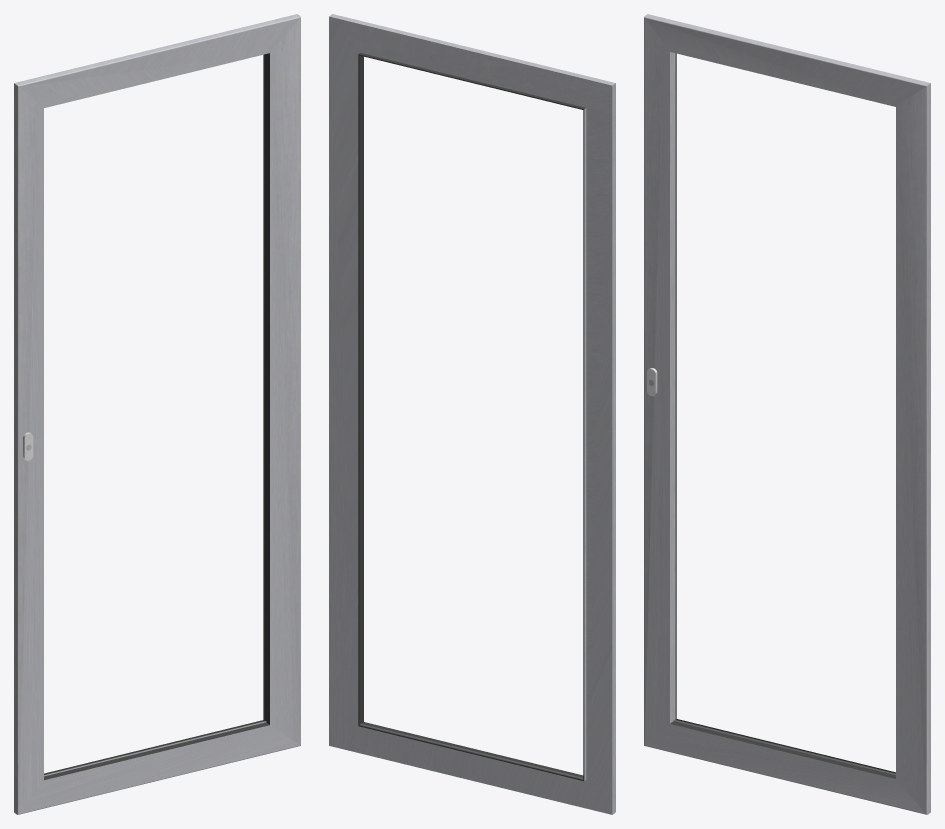
File: SM_Window_Left.dae
3 views of the same model, side by side, from view 1: azimuth 30°, elevation 25°; view 2: azimuth 150°, elevation 25°; view 3: azimuth 330°, elevation 25° (orthographic).
Visible parts, largest first — view 1: SM_Window_Left; view 2: SM_Window_Left; view 3: SM_Window_Left.
Boxes of the visible parts, bbox=[...] form: SM_Window_Left: bbox=[14, 14, 300, 814]; SM_Window_Left: bbox=[329, 14, 615, 814]; SM_Window_Left: bbox=[644, 14, 930, 814].
Bounding box in the file's own units: 0.8434 × 0.0385 × 2.07.
